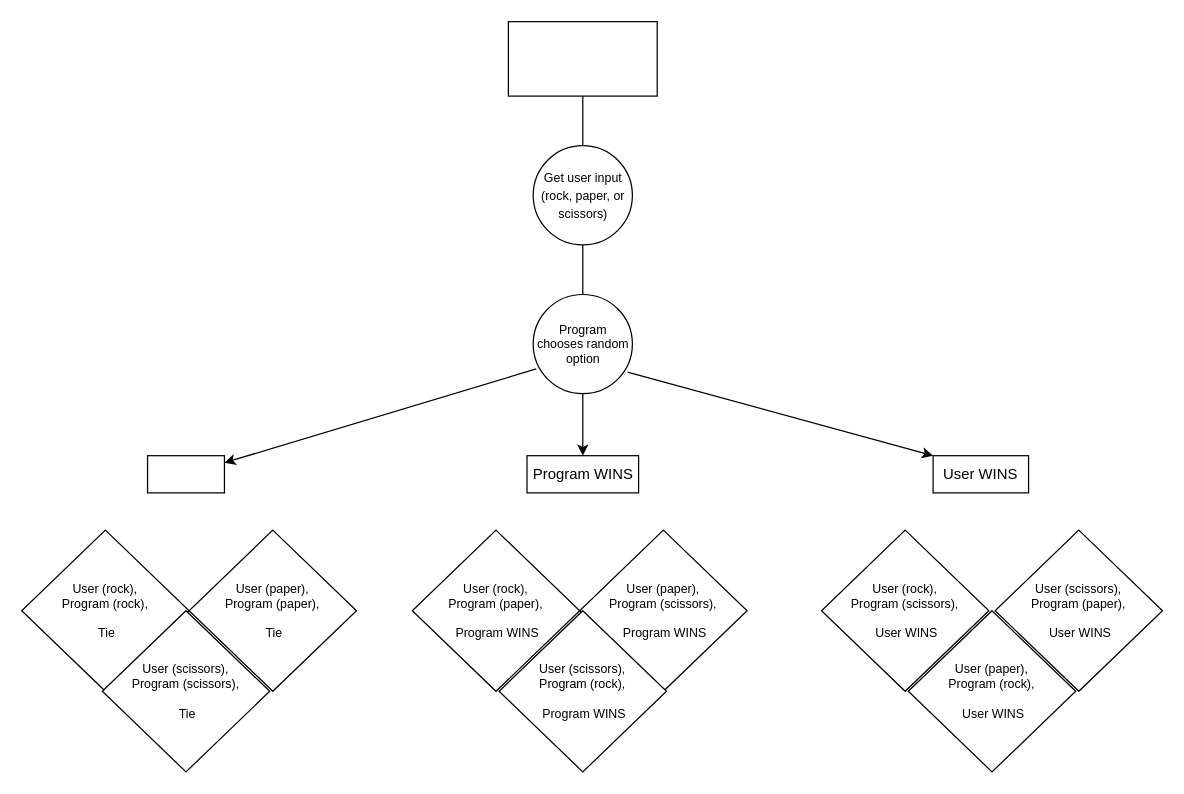
Some shapes in this 1184 by 794 pixel diagram are drawn without their labels. Each missing label, with the centre of its shape:
"Start" belongs at point 582,58.
"Tie" belongs at point 185,473.
